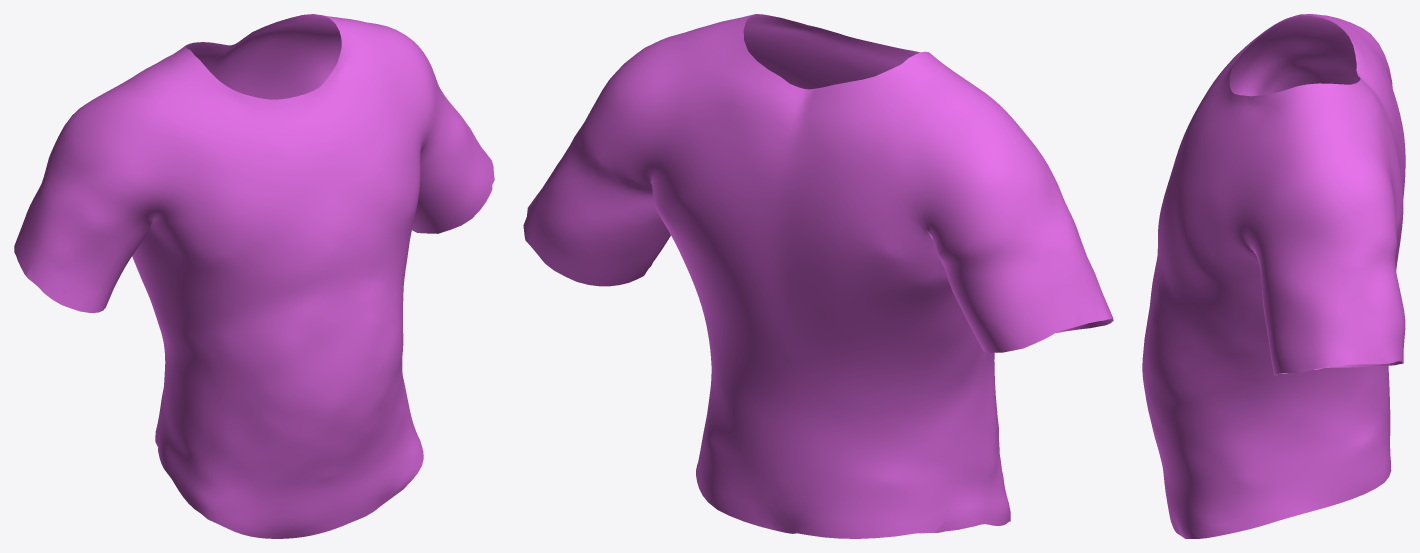
Rendered from Male-Large-Tshirt.glb.
The picture shows the model from 3 angles, left to right: view 1: azimuth 30°, elevation 25°; view 2: azimuth 150°, elevation 25°; view 3: azimuth 270°, elevation 25°; orthographic projection. The views are drawn at different scales.
Parts seen in each view (by area): view 1: Group1.013; view 2: Group1.013; view 3: Group1.013.
Part boxes in pixels (left/top/right/bottom): Group1.013: left=14, top=14, right=494, bottom=538; Group1.013: left=523, top=14, right=1113, bottom=538; Group1.013: left=1142, top=14, right=1405, bottom=538.
Bounding box in the file's own units: 1.41 × 1.28 × 0.6545.
